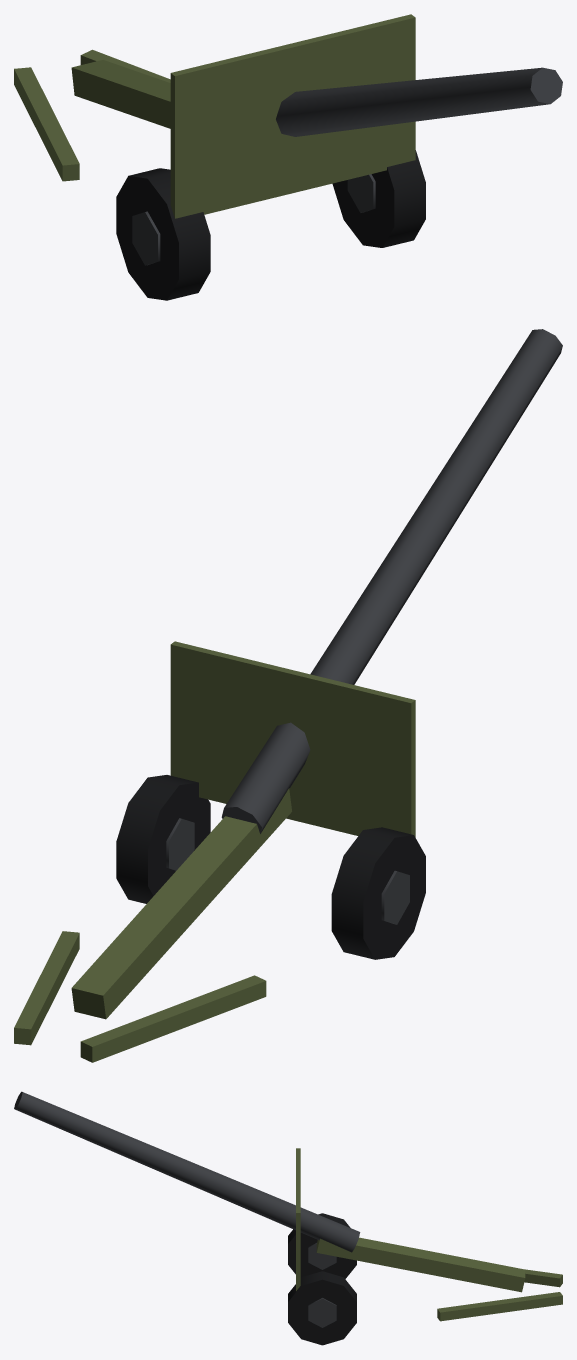
File: unit_mil_gun_a07.glb
3 views of the same model, one above another, from view 1: azimuth 30°, elevation 25°; view 2: azimuth 150°, elevation 25°; view 3: azimuth 270°, elevation 25° (orthographic). The views are drawn at different scales.
Visible parts, largest first — view 1: body, barrel, wheel_0, wheel_1; view 2: body, barrel, wheel_0, wheel_1; view 3: barrel, body, wheel_1, wheel_0.
Boxes of the visible parts, x1,y1,x2,y2 form: body: (14, 14, 415, 218); barrel: (276, 67, 562, 136); wheel_0: (116, 168, 210, 300); wheel_1: (332, 150, 425, 247); body: (14, 641, 415, 1062); barrel: (221, 329, 562, 833); wheel_0: (331, 827, 425, 959); wheel_1: (116, 775, 210, 903); barrel: (14, 1091, 360, 1252); body: (296, 1148, 562, 1321); wheel_1: (288, 1271, 356, 1345); wheel_0: (288, 1213, 356, 1278).
Size of what is drawn, in the model's own units: 1.99 by 3.01 by 6.8.
